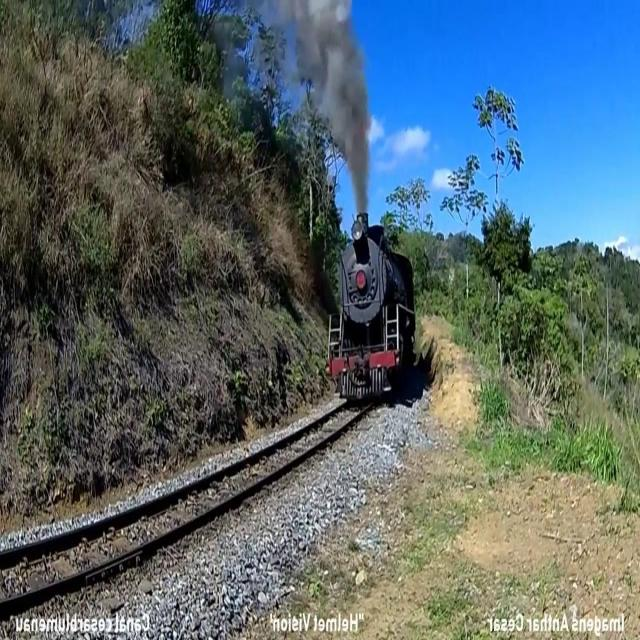Smoke: (257, 0, 385, 220)
